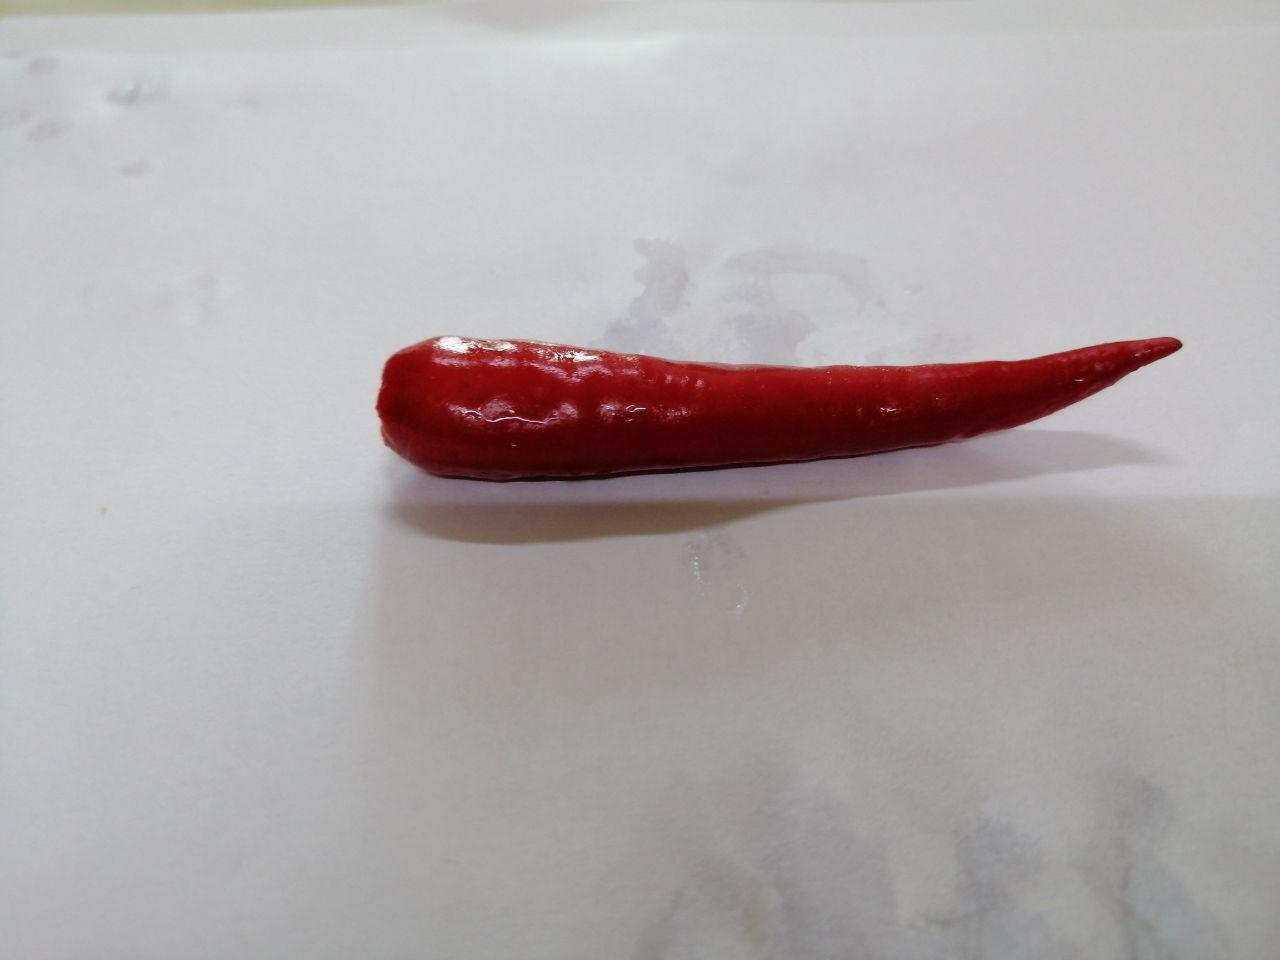lada merah: (365, 301, 1194, 496)
